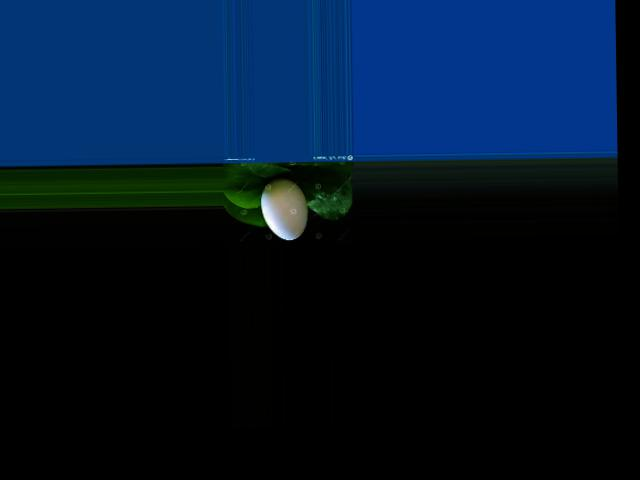egg: (260, 177, 308, 240)
